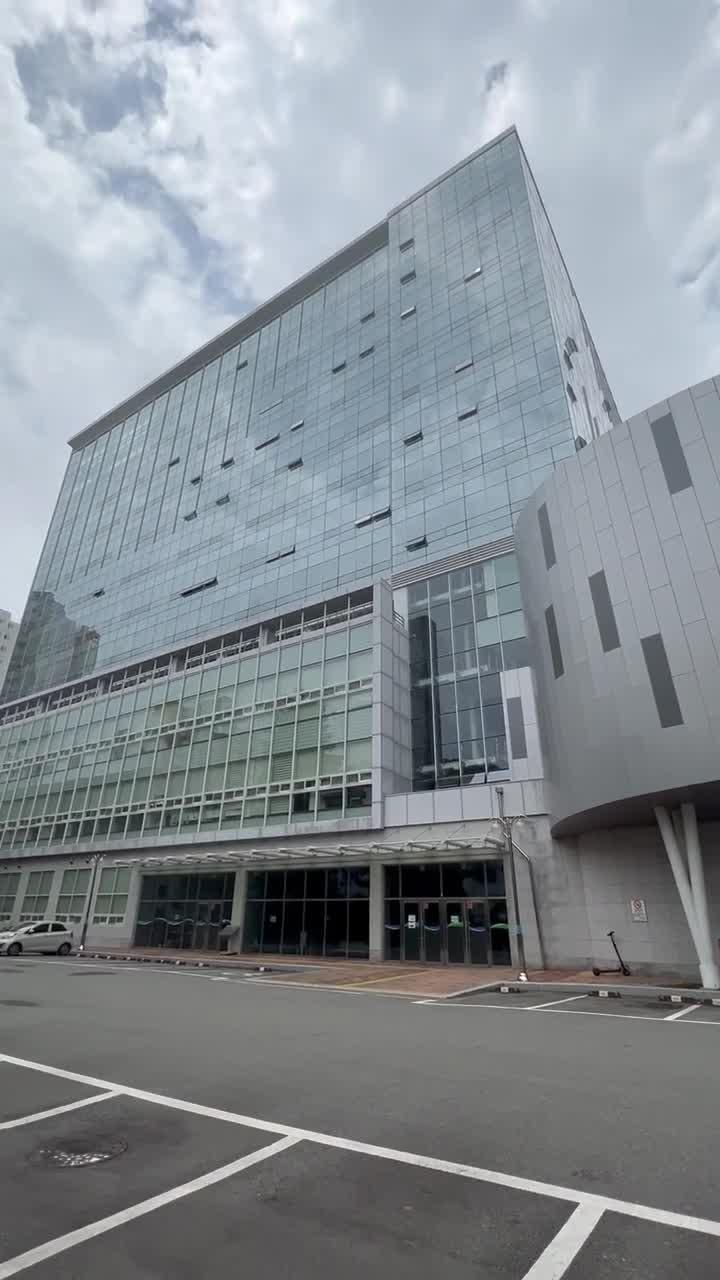building: (34, 260, 720, 936)
